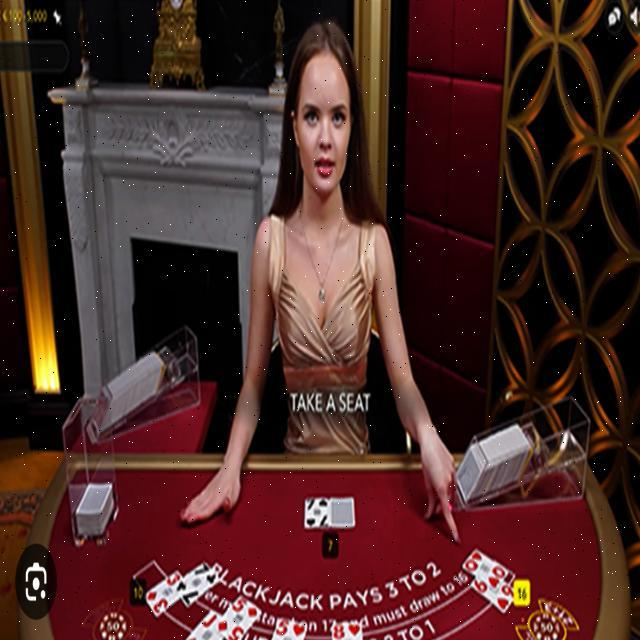Card-3: (144, 569, 183, 617)
Card-5: (215, 594, 262, 640), (272, 617, 307, 639)
Card-6: (470, 577, 516, 614)
Card-7: (173, 560, 221, 605), (305, 498, 330, 527)
Card-8: (333, 623, 362, 639)
Card-J: (185, 610, 224, 640)
Card-Q: (462, 548, 509, 592)
